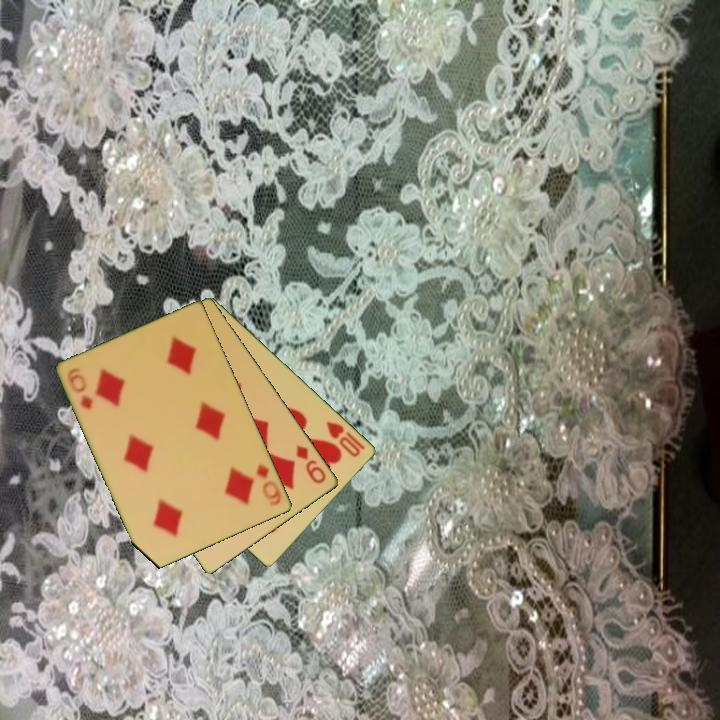10h: (323, 417, 364, 460)
6d: (253, 461, 285, 509), (66, 371, 97, 412)
9d: (293, 442, 329, 487)
